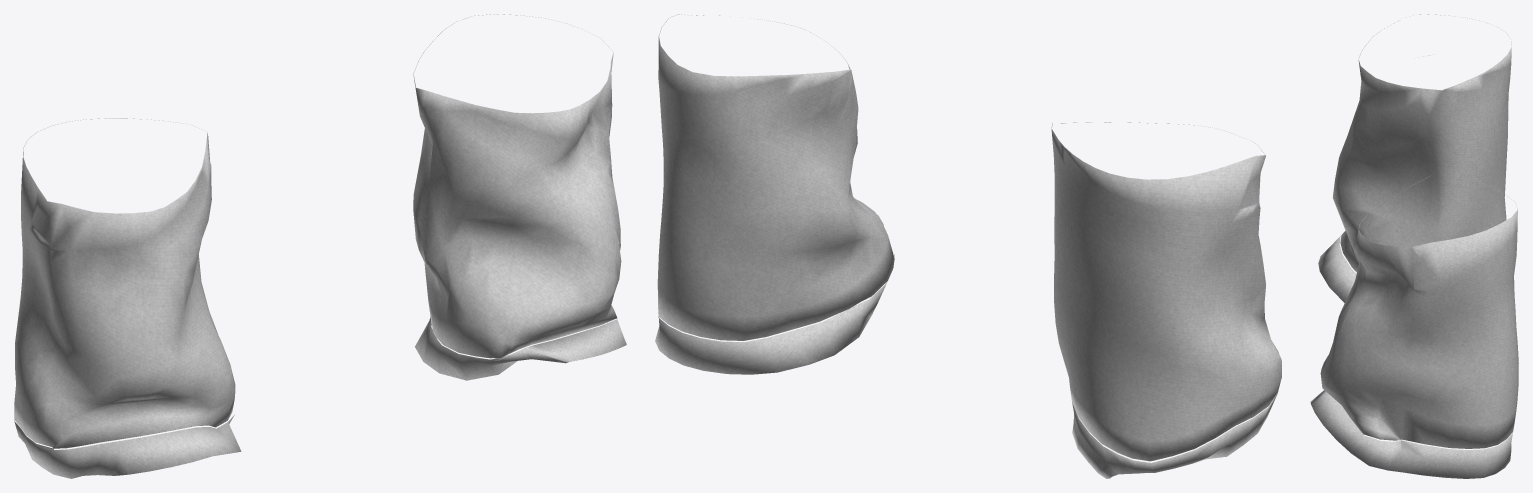
Rendered from Decor_Under.glb.
3 renders of one model, left to right at view 1: azimuth 30°, elevation 25°; view 2: azimuth 150°, elevation 25°; view 3: azimuth 270°, elevation 25°, orthographic. The views are drawn at different scales.
Parts seen in each view (by area): view 1: Decor_Under1; view 2: Decor_Under1; view 3: Decor_Under1.
Boxes of the visible parts, x1,y1,x2,y2 form: Decor_Under1: (14, 14, 626, 478); Decor_Under1: (655, 14, 1281, 478); Decor_Under1: (1310, 14, 1518, 478).
Bounding box in the file's own units: 0.8368 × 0.4216 × 0.3121.
Materials: 1 (1 with a texture image).
